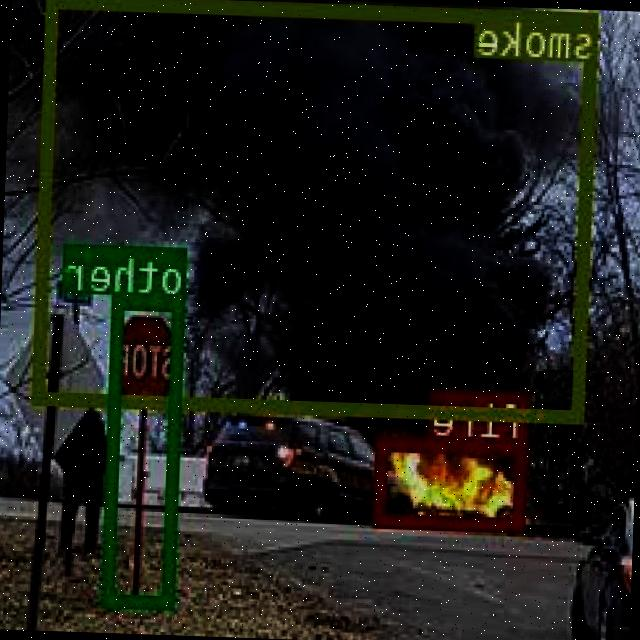fire: (376, 434, 528, 529)
smoke: (35, 0, 599, 421)
